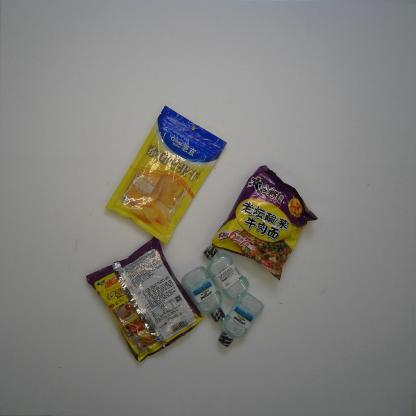Dried Fruit: (104, 104, 228, 246)
Instant Noodles: (85, 236, 205, 364), (211, 164, 318, 282)
Personal Hygiene: (203, 244, 250, 300), (180, 265, 226, 322), (218, 291, 264, 348)
